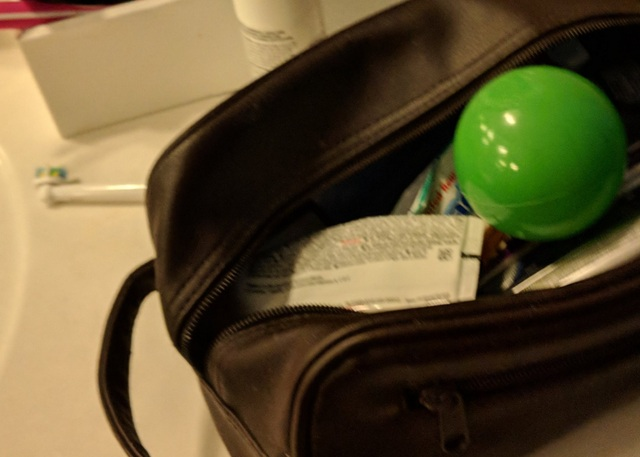ball: (454, 64, 626, 244)
